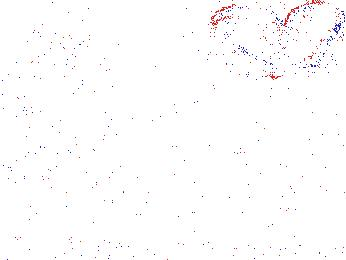moon jellyfish: (24, 36, 113, 127), (209, 3, 289, 80), (23, 134, 119, 190), (1, 1, 64, 75), (280, 1, 343, 69)
